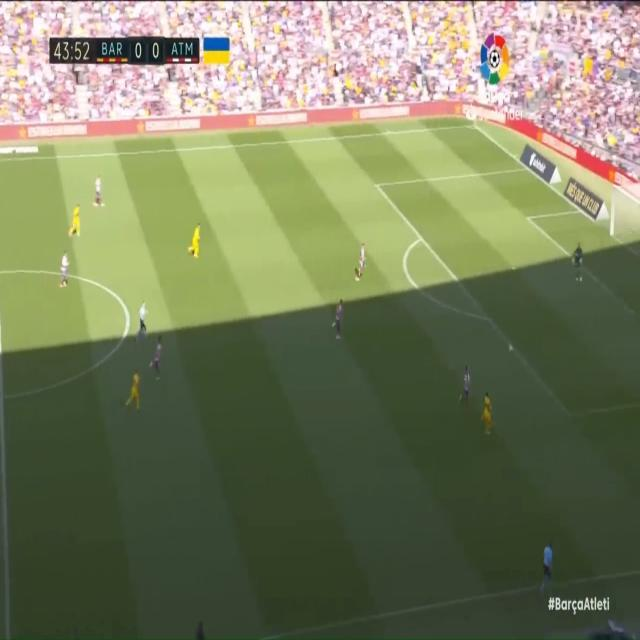ball: (505, 335, 516, 357)
goalkeeper: (568, 235, 587, 292)
player: (150, 335, 171, 389), (125, 368, 145, 418), (88, 173, 110, 214), (354, 240, 369, 296), (481, 384, 495, 441), (460, 362, 475, 407), (188, 220, 204, 261), (67, 204, 83, 242), (330, 299, 344, 340), (59, 246, 71, 291)
referee: (541, 542, 559, 590), (133, 299, 149, 342)
